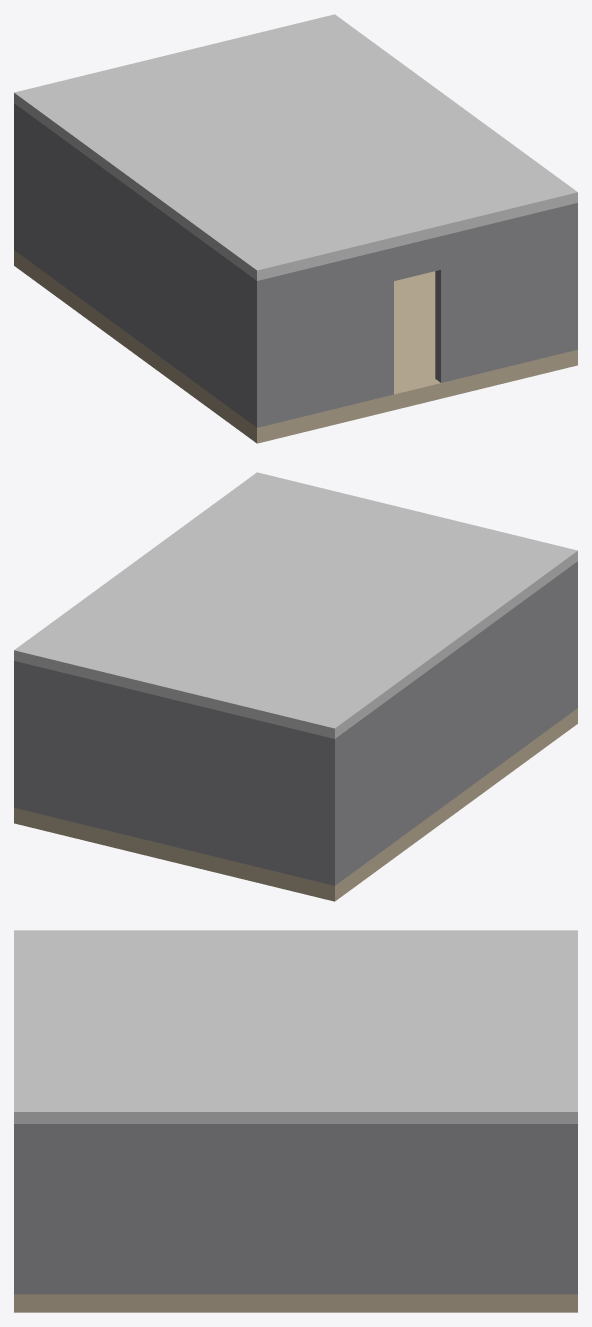
File: empty_room.glb
The picture shows the model from 3 angles, top to bottom: view 1: azimuth 30°, elevation 25°; view 2: azimuth 150°, elevation 25°; view 3: azimuth 270°, elevation 25°; orthographic projection. The views are drawn at different scales.
Visible parts, largest first — view 1: Room_Ceiling, Room_Wall_W_1, Room_Wall_S_1, Room_Wall_S_3, Room_Floor, Room_Wall_S_2, Room_Wall_N_1; view 2: Room_Ceiling, Room_Wall_N_1, Room_Wall_W_1, Room_Floor, Room_Wall_S_1; view 3: Room_Ceiling, Room_Wall_E_1, Room_Floor, Room_Wall_N_1, Room_Wall_S_3.
Part boxes in pixels (x1,y1,x2,y2): Room_Ceiling: [14, 14, 577, 280]; Room_Wall_W_1: [19, 107, 251, 423]; Room_Wall_S_1: [251, 247, 393, 427]; Room_Wall_S_3: [435, 203, 577, 382]; Room_Floor: [14, 250, 577, 443]; Room_Wall_S_2: [394, 236, 440, 280]; Room_Wall_N_1: [14, 103, 19, 253]; Room_Ceiling: [14, 472, 577, 738]; Room_Wall_N_1: [14, 661, 340, 885]; Room_Wall_W_1: [340, 565, 572, 881]; Room_Floor: [14, 708, 577, 901]; Room_Wall_S_1: [572, 561, 577, 711]; Room_Ceiling: [14, 930, 577, 1123]; Room_Wall_E_1: [27, 1124, 564, 1294]; Room_Floor: [14, 1294, 577, 1312]; Room_Wall_N_1: [564, 1124, 577, 1294]; Room_Wall_S_3: [14, 1124, 27, 1294].
Size of the model in its own units: 6.4 by 3.3 by 8.4.
